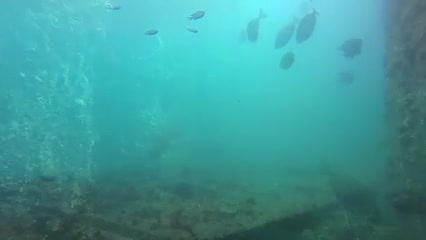smallfish: (293, 6, 322, 45), (184, 6, 211, 25)
